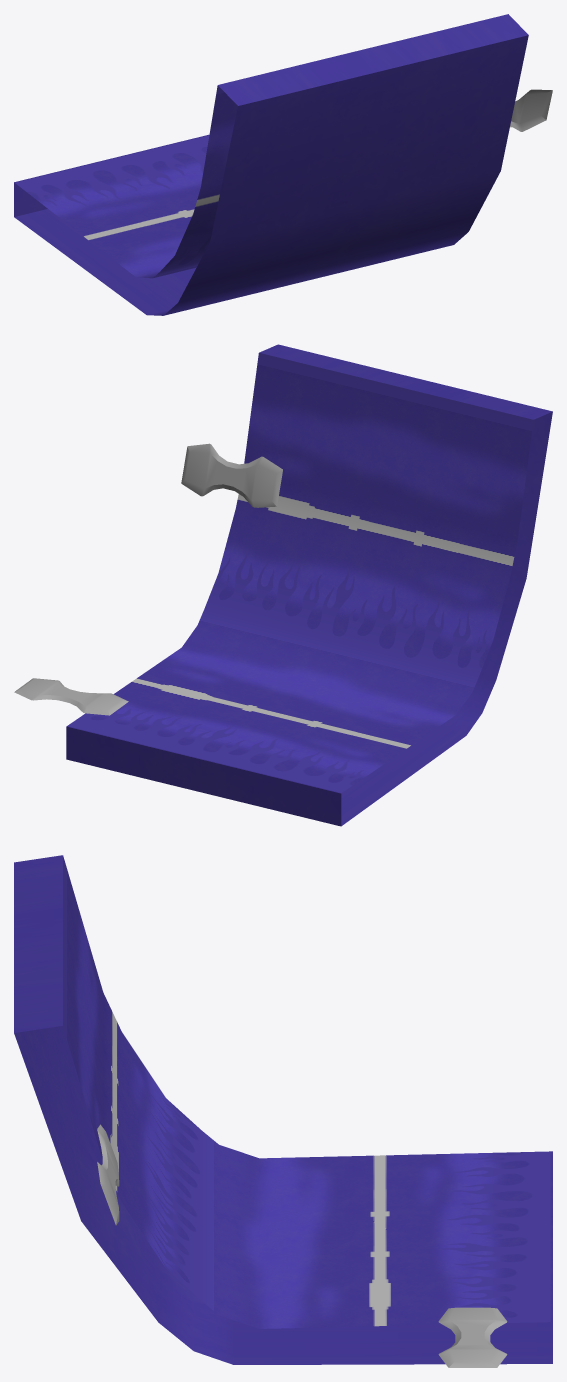
File: PV_wall ride.fbx
3 views of the same model, one above another, from view 1: azimuth 30°, elevation 25°; view 2: azimuth 150°, elevation 25°; view 3: azimuth 270°, elevation 25° (orthographic). The views are drawn at different scales.
Visible parts, largest first — view 1: scale5, clip1; view 2: scale5, clip1; view 3: scale5, clip1.
Part boxes in pixels (bbox=[...]): scale5: bbox=[14, 14, 528, 315]; clip1: bbox=[510, 89, 552, 131]; scale5: bbox=[66, 344, 552, 826]; clip1: bbox=[14, 443, 282, 715]; scale5: bbox=[14, 855, 552, 1364]; clip1: bbox=[97, 1124, 507, 1367].
Size of the model in its own units: 3022 by 2206 by 3176.
